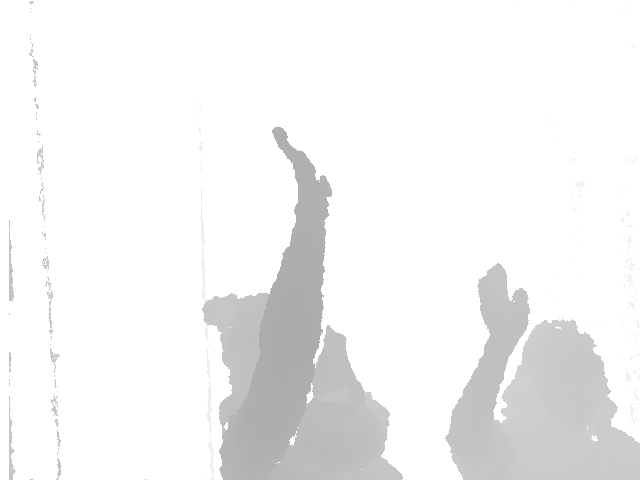hand: (272, 123, 336, 214), (472, 261, 532, 347)
head: (201, 293, 354, 393), (504, 320, 612, 431)
person: (198, 122, 405, 480), (448, 259, 640, 480)
